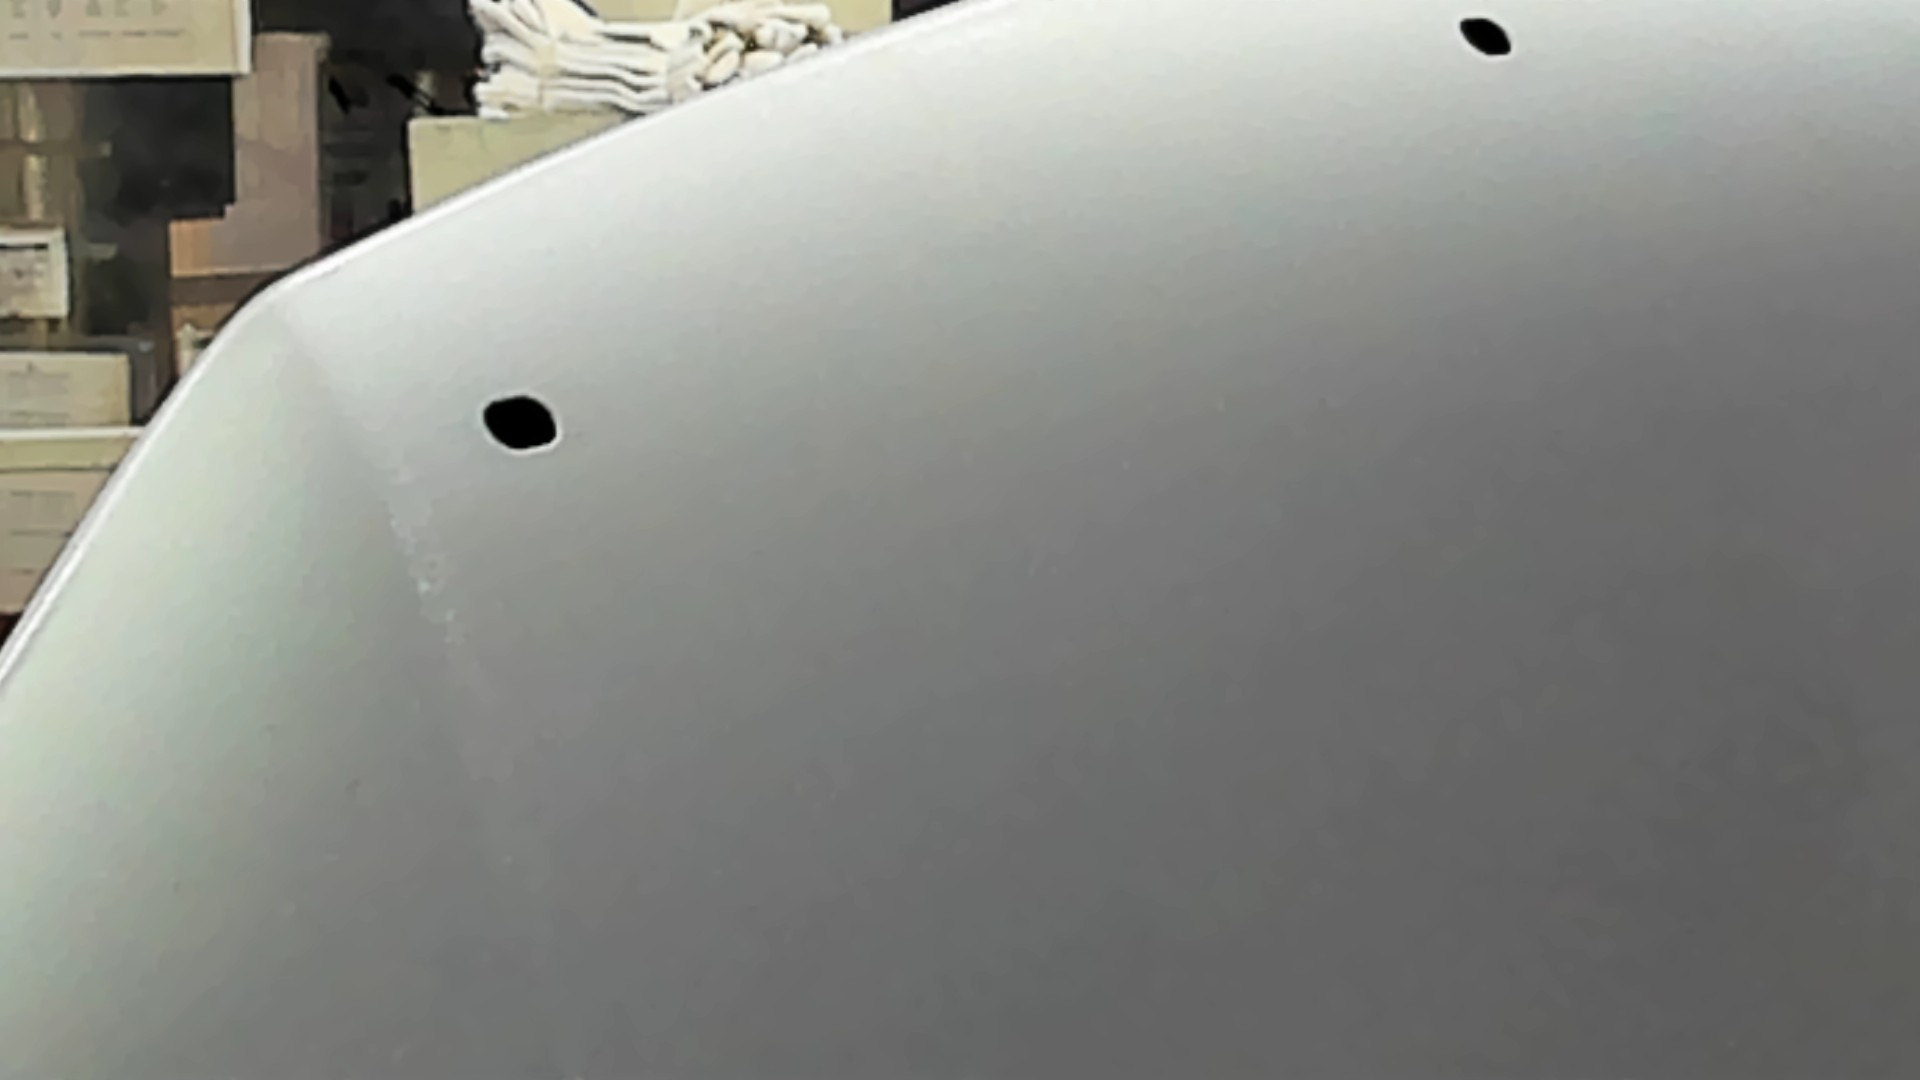amorfo: (473, 388, 568, 462), (1455, 11, 1520, 63)
